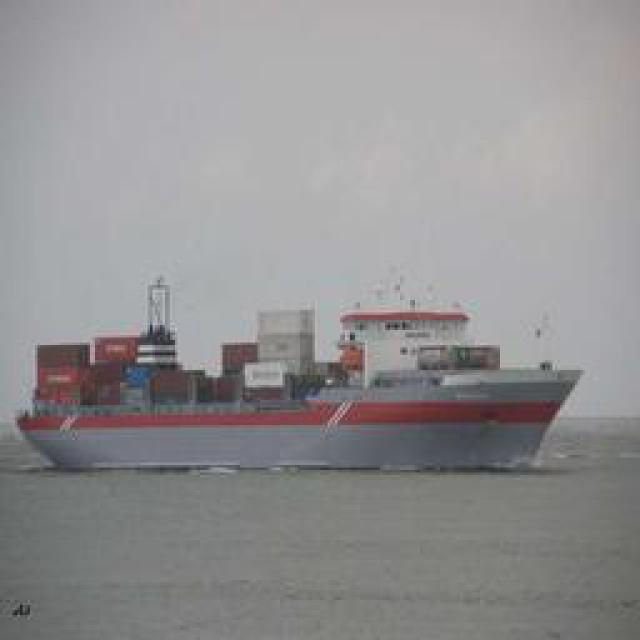Ship: (5, 286, 578, 471)
